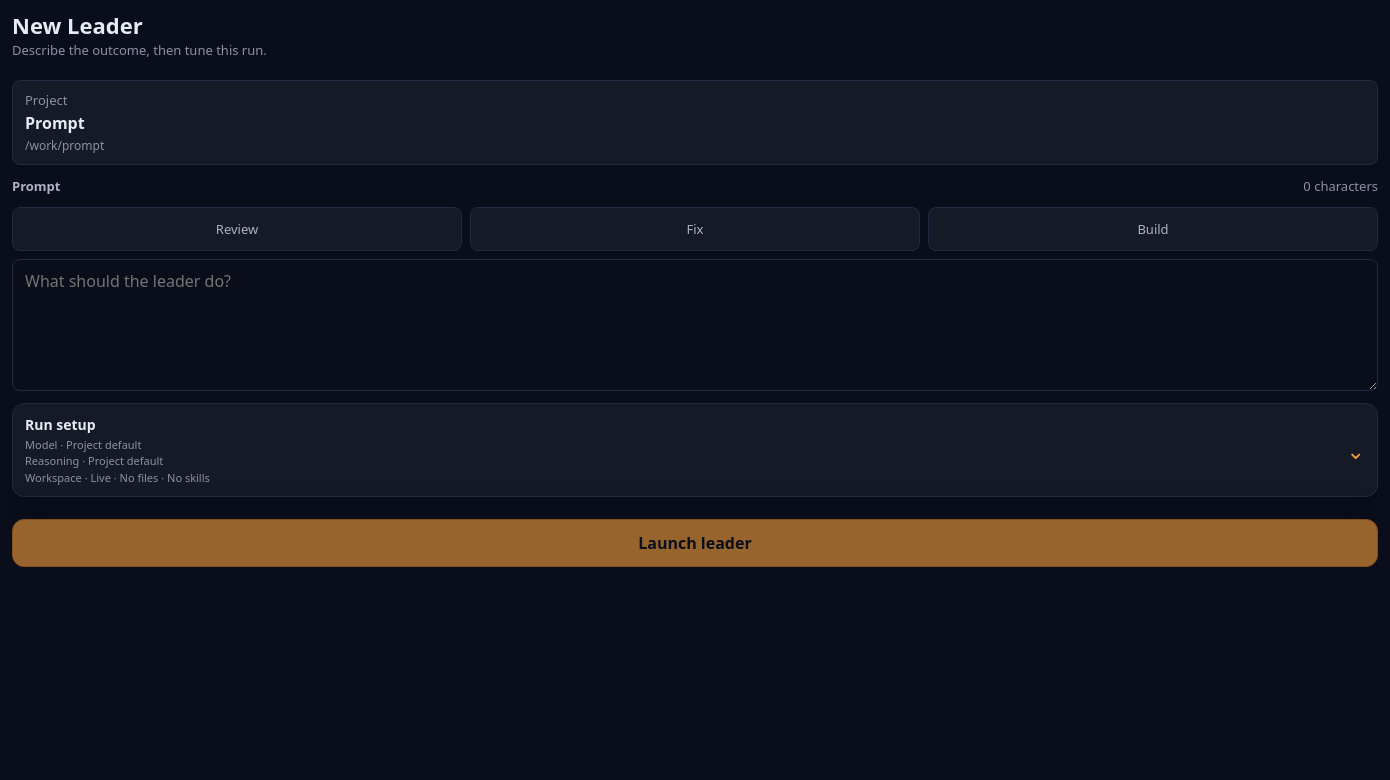
LaunchScreen › separates the prompt label from its live character counter
Step 1. Type "Ship it" into the text box labelled "Prompt" → (695, 325), box [12,259,1378,391]
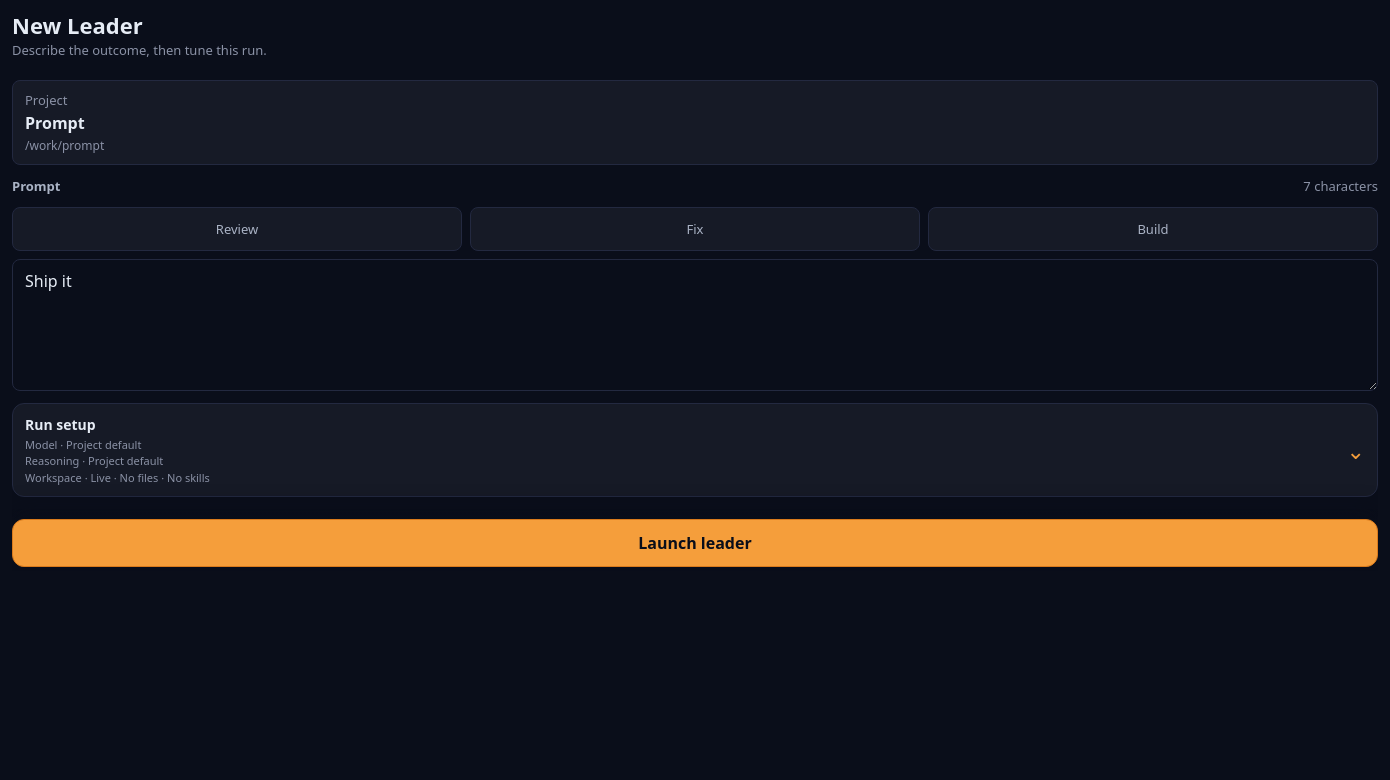
Expected: the text "0 characters" reads "7 characters", [1303,177,1378,195]
